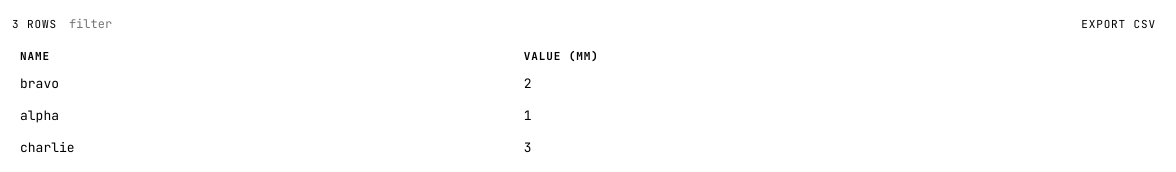
it: DataTable › filters rows via the text filter
Type "alpha" into the search field named "filter table".
click(565, 24); type("alpha")  # box [65,12,1065,36]
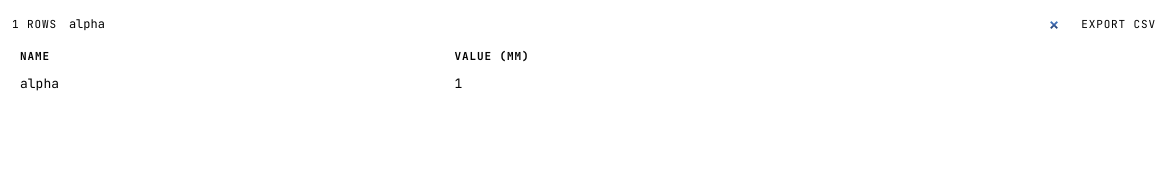
Expected: the text "alpha" is shown, [12,68,446,100]
Expected: the text "1 rows" is shown, [12,16,57,32]
